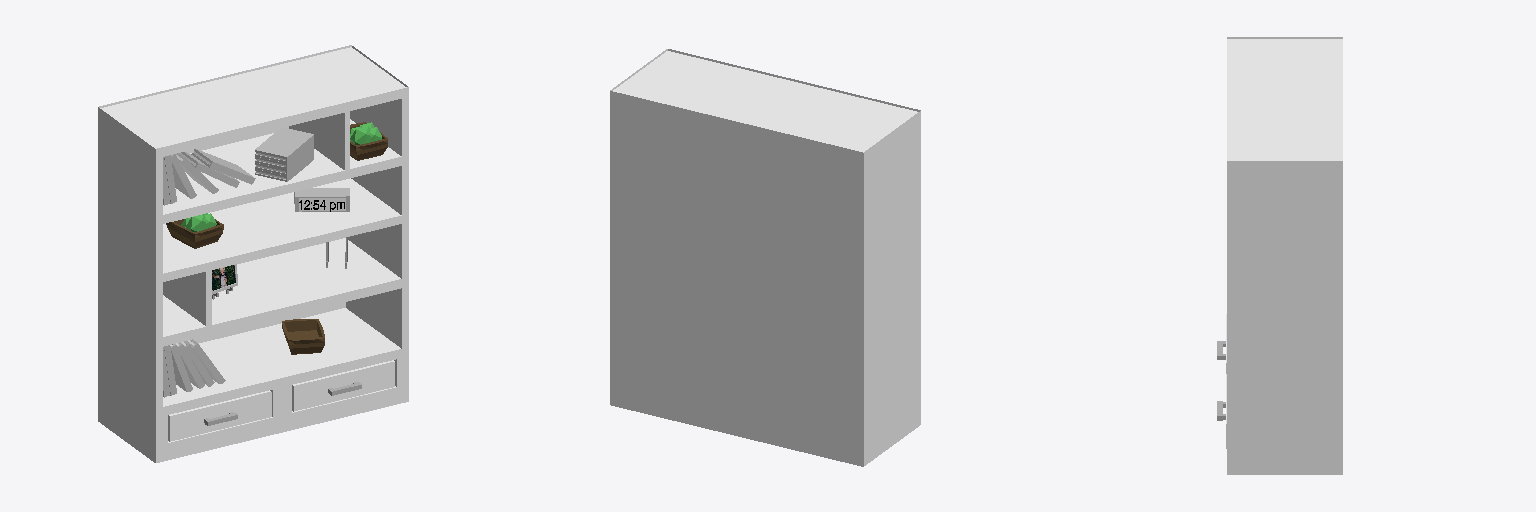
3 renders of one model, left to right at view 1: azimuth 30°, elevation 25°; view 2: azimuth 150°, elevation 25°; view 3: azimuth 270°, elevation 25°, orthographic.
Visible parts, largest first — view 1: Box, Box2, Box6, Box25, Box46, Box10, Box39, Box22, Box1, Box11; view 2: Box; view 3: Box.
Part boxes in pixels (left/top/right/bottom): Box: left=98, top=45, right=408, bottom=462; Box2: left=168, top=390, right=271, bottom=441; Box6: left=292, top=360, right=394, bottom=411; Box25: left=255, top=128, right=313, bottom=162; Box46: left=282, top=319, right=324, bottom=354; Box10: left=294, top=188, right=349, bottom=211; Box39: left=166, top=219, right=223, bottom=248; Box22: left=191, top=149, right=255, bottom=184; Box1: left=350, top=122, right=387, bottom=160; Box11: left=212, top=264, right=237, bottom=294; Box: left=610, top=49, right=920, bottom=466; Box: left=1227, top=37, right=1342, bottom=474.
Size of the model in its own units: 0.8446 by 1 by 0.3609.
10 materials, 1 textured.